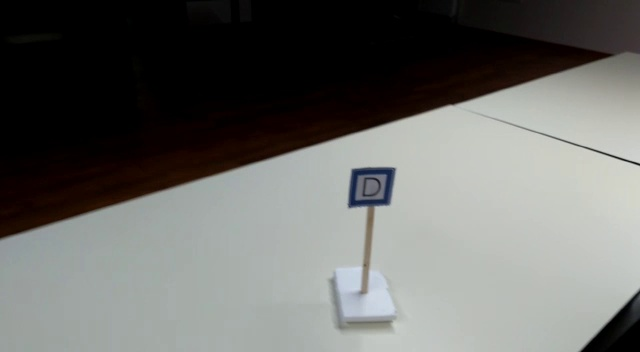durak: (348, 168, 392, 206)
